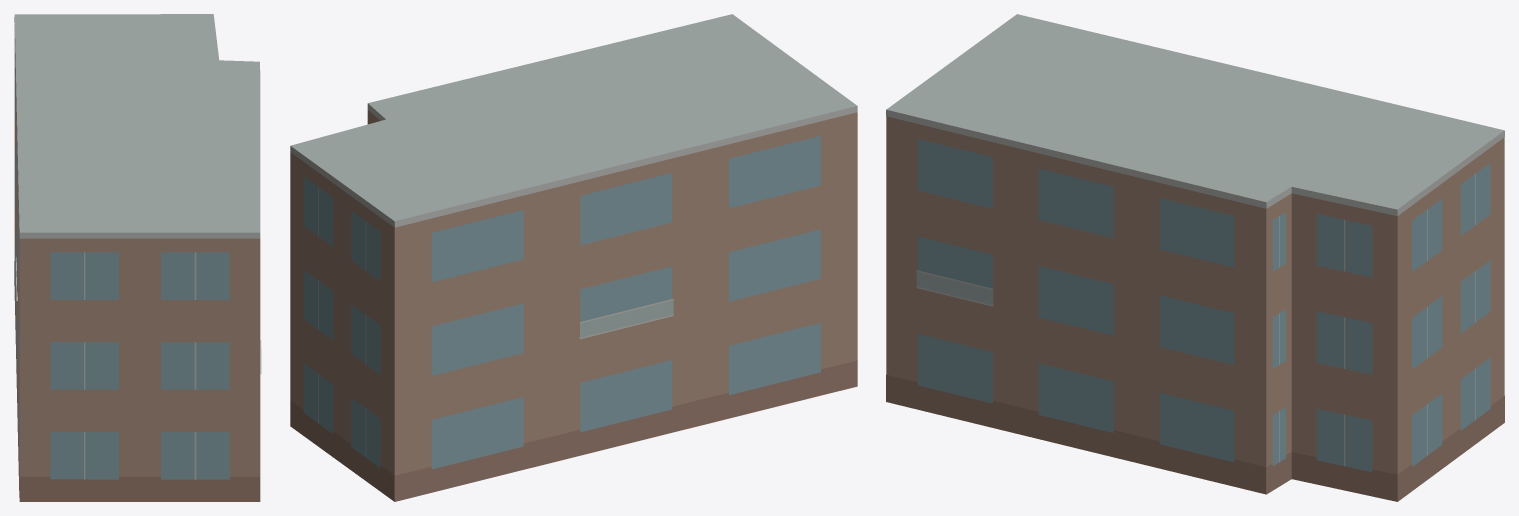
Rendered from survey-upis-32512526.glb.
The picture shows the model from 3 angles, left to right: view 1: azimuth 30°, elevation 25°; view 2: azimuth 150°, elevation 25°; view 3: azimuth 270°, elevation 25°; orthographic projection. The views are drawn at different scales.
Parts seen in each view (by area): view 1: survey-upis-32512526.tmp; view 2: survey-upis-32512526.tmp; view 3: survey-upis-32512526.tmp.
Boxes of the visible parts, <box> form: survey-upis-32512526.tmp: <box>14,14,261,501</box>; survey-upis-32512526.tmp: <box>290,14,857,501</box>; survey-upis-32512526.tmp: <box>886,14,1504,501</box>.
Size of the model in its own units: 15.66 by 10.9 by 20.92.
